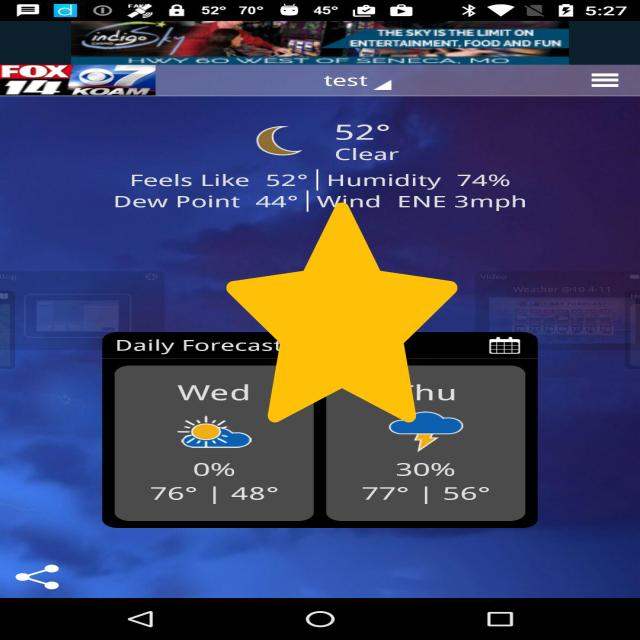forced continuity: (227, 202, 458, 423)
